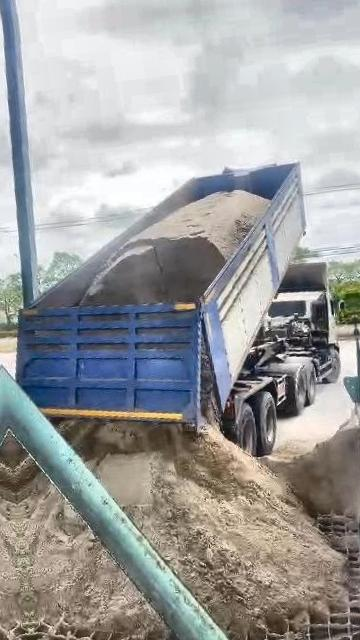sand: (62, 420, 346, 640), (13, 460, 166, 640), (81, 190, 268, 305), (265, 425, 360, 519), (10, 435, 26, 470)
